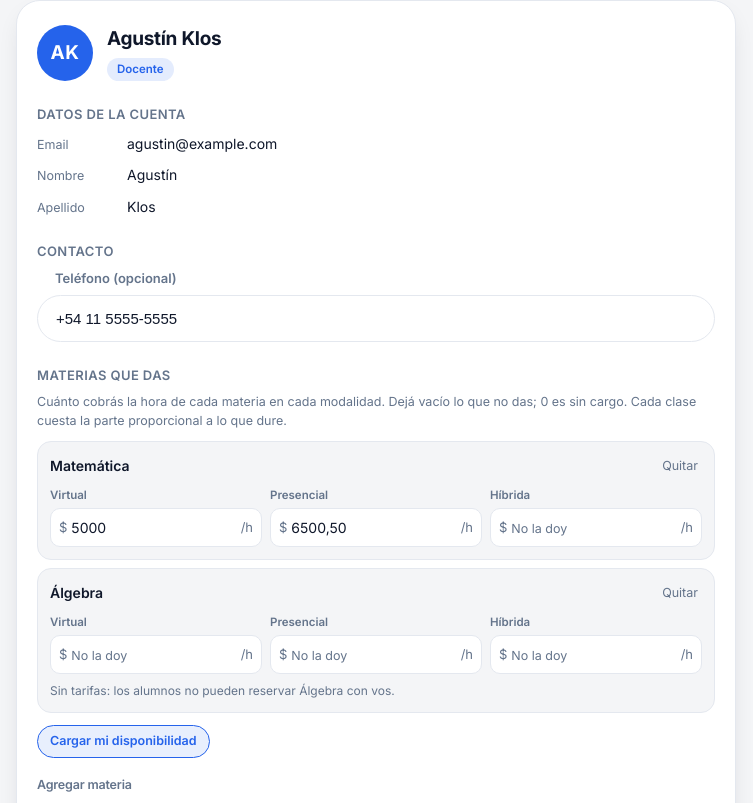
Test: ProfilePage › un monto inválido marca el campo y no deja guardar
This screenshot has width=753, height=803.
Check: the text "Matemática" is shown, box [50,457,130,474]
Type "mil" into the 2nd field labelled "Virtual $ /h" at (154, 655), box [71,636,237,673]
(page scrolled)
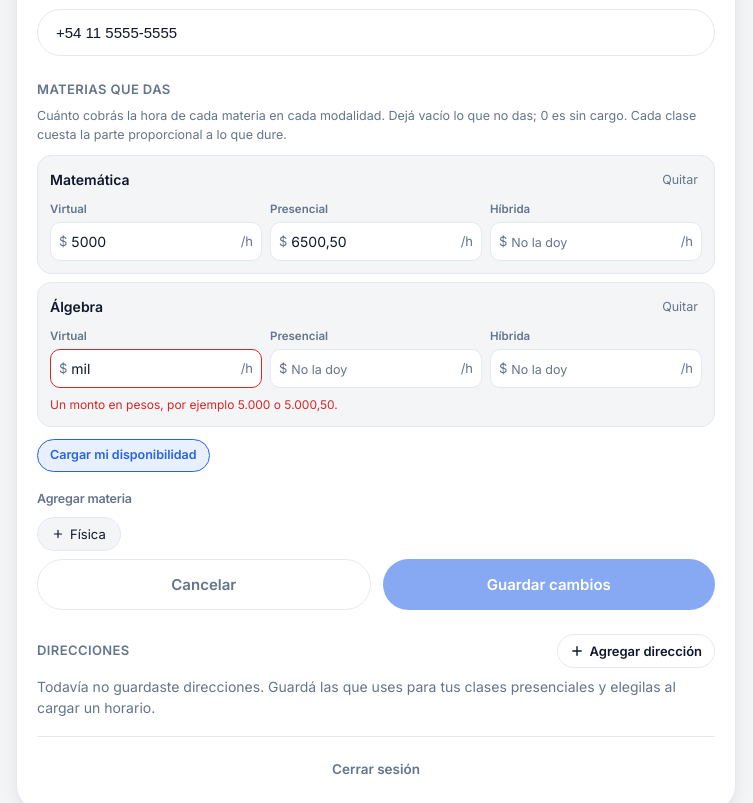
Check: the button "Guardar cambios" is disabled, box [382,559,715,610]
Check: the text "Un monto en pesos, por ejemplo 5.000 o 5.000,50." is shown, box [50,397,338,412]
